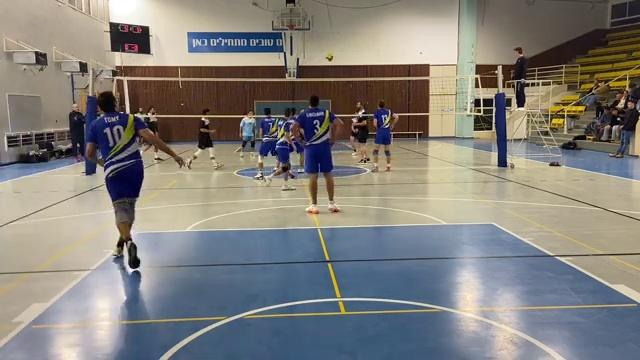ball: (326, 54, 336, 63)
